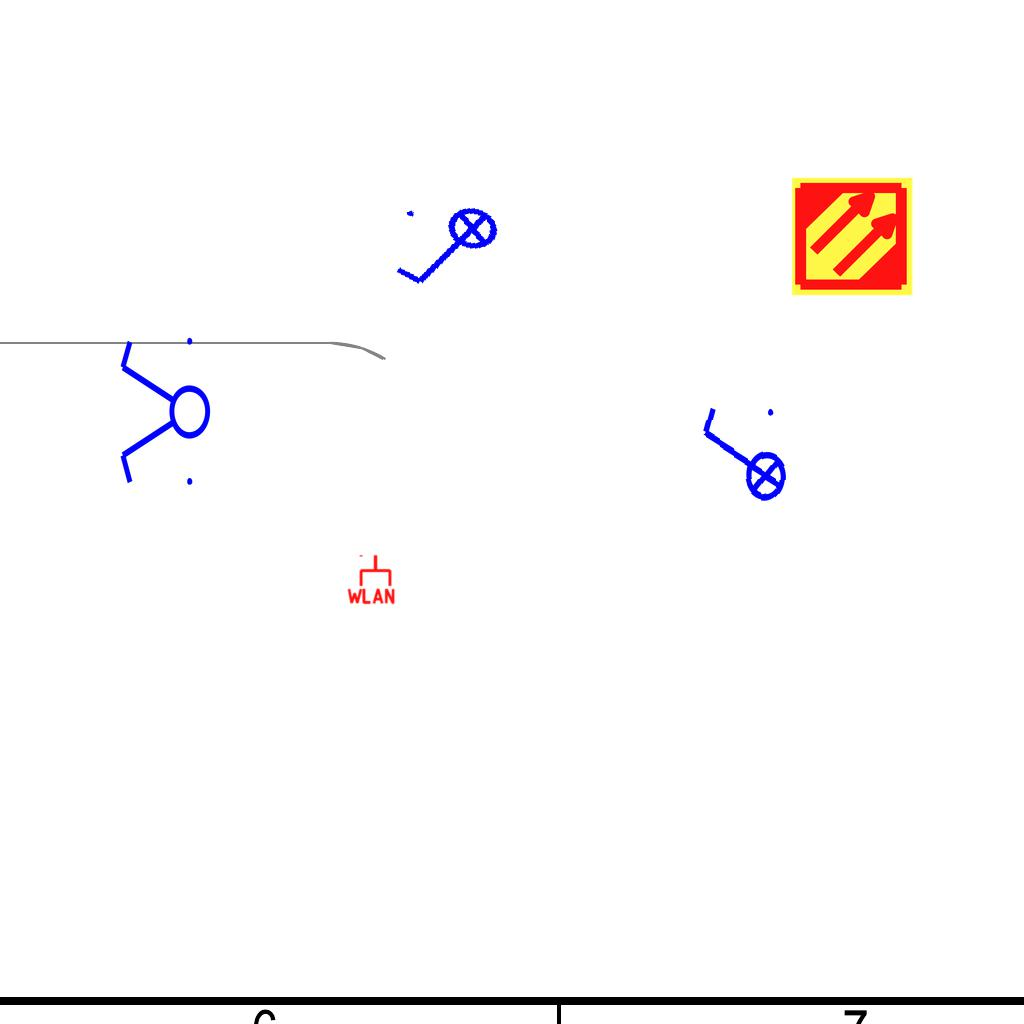ASR_Ansaugrauchmelder: (790, 174, 915, 299)
Ausschalter_beleuchtet: (384, 190, 516, 310), (689, 397, 793, 517)
Serienschalter: (116, 329, 212, 497)
WLAN: (345, 553, 397, 605)
